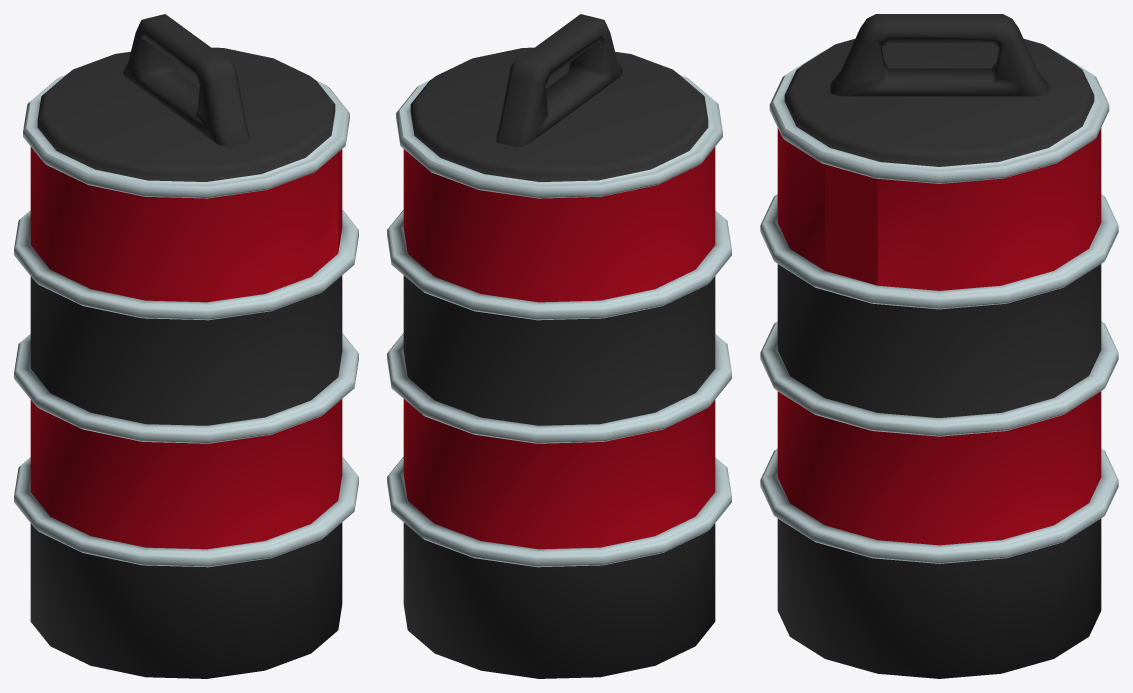
File: Barrell.fbx
The picture shows the model from 3 angles, left to right: view 1: azimuth 30°, elevation 25°; view 2: azimuth 150°, elevation 25°; view 3: azimuth 270°, elevation 25°; orthographic projection. The views are drawn at different scales.
Parts seen in each view (by area): view 1: Barrel_Thingy; view 2: Barrel_Thingy; view 3: Barrel_Thingy.
Part boxes in pixels (left/top/right/bottom): Barrel_Thingy: left=14, top=14, right=358, bottom=678; Barrel_Thingy: left=387, top=14, right=731, bottom=678; Barrel_Thingy: left=760, top=14, right=1118, bottom=678.
Size of the model in its own units: 1.04 by 1.9 by 1.04.
